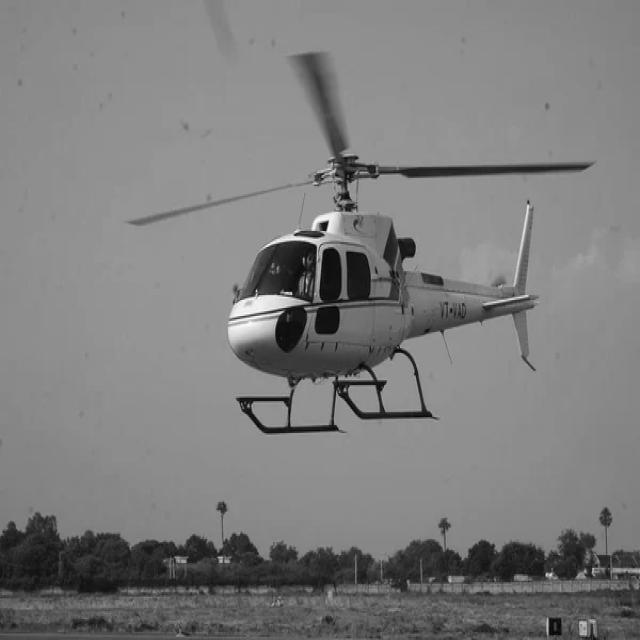Helicopter: (130, 51, 594, 435)
